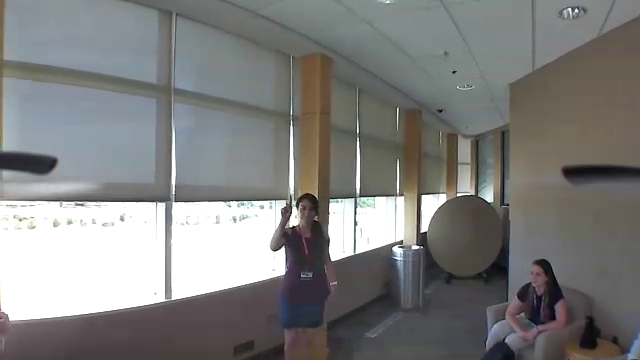up: (275, 193, 297, 223)
